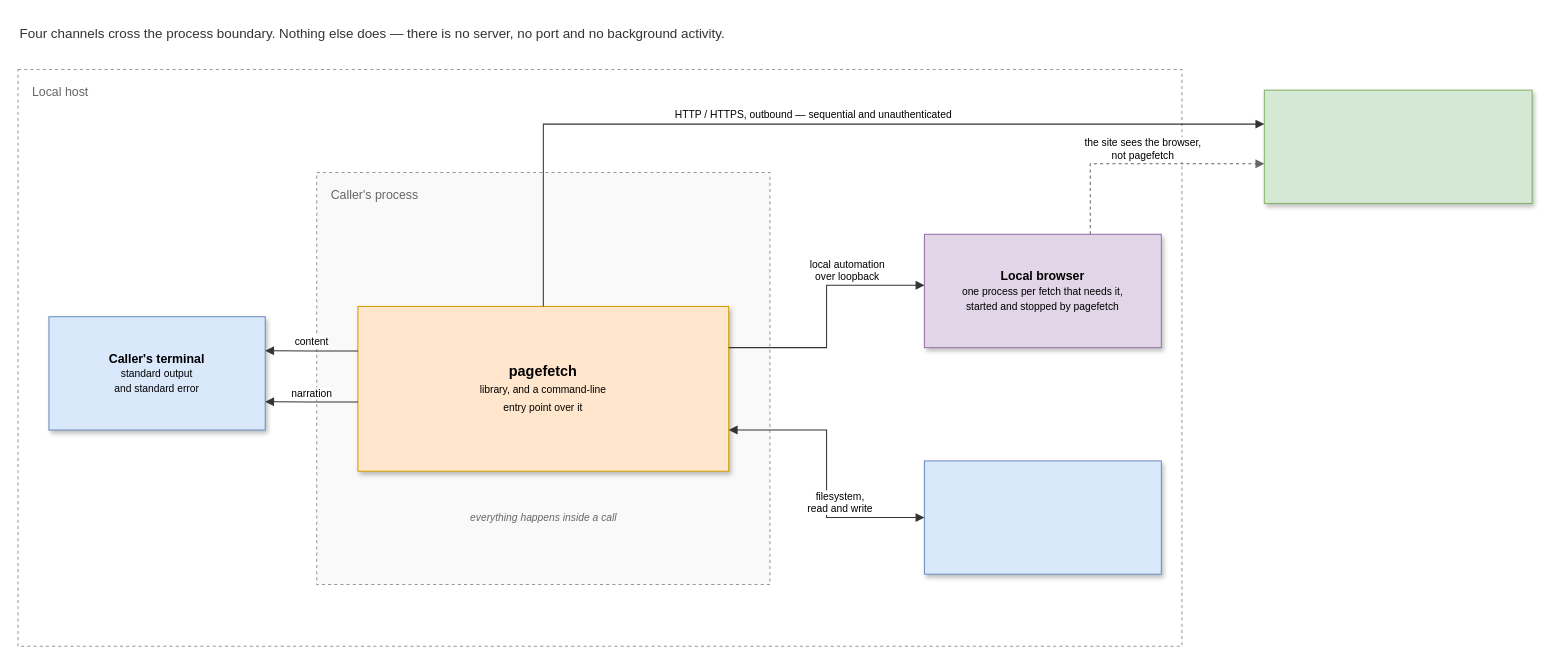
Some shapes in this 1556 by 664 pixel diagram are drawn without their labels. The centre of each missing label's shape, as x and y in pixels:
Local file store one entry per URL and content form, at a caller-selectable path: [1043,518]
Target web site the only partner beyond the local host: [1398,148]
